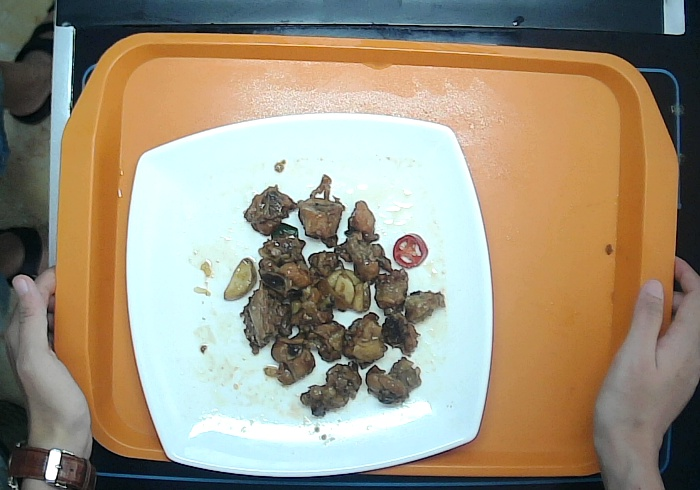ZNLD-Bai_Fang_Pan: (117, 105, 501, 487)
